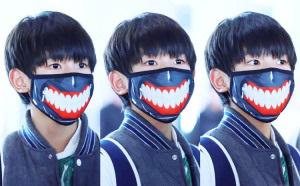OK: (28, 45, 107, 124), (125, 44, 200, 119), (227, 48, 296, 122)
